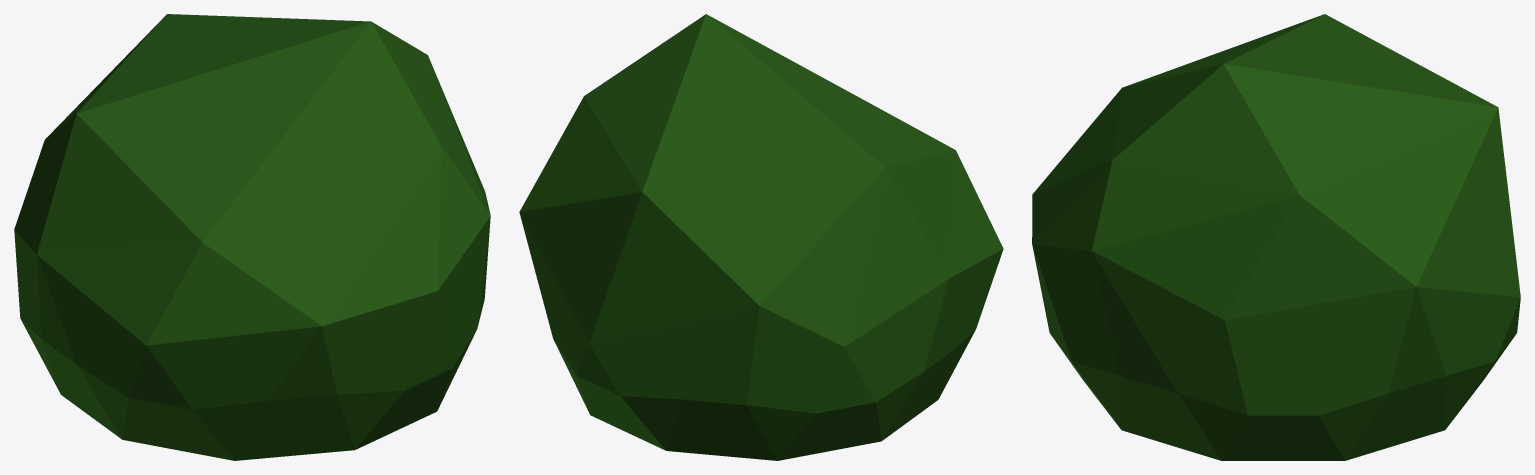
File: SceneryBush.fbx
The picture shows the model from 3 angles, left to right: view 1: azimuth 30°, elevation 25°; view 2: azimuth 150°, elevation 25°; view 3: azimuth 270°, elevation 25°; orthographic projection. The views are drawn at different scales.
Parts seen in each view (by area): view 1: Bush; view 2: Bush; view 3: Bush.
Boxes of the visible parts, x1,y1,x2,y2 form: Bush: [14, 14, 490, 460]; Bush: [519, 14, 1003, 460]; Bush: [1032, 14, 1520, 460].
Size of the model in its own units: 190 by 187 by 154.
